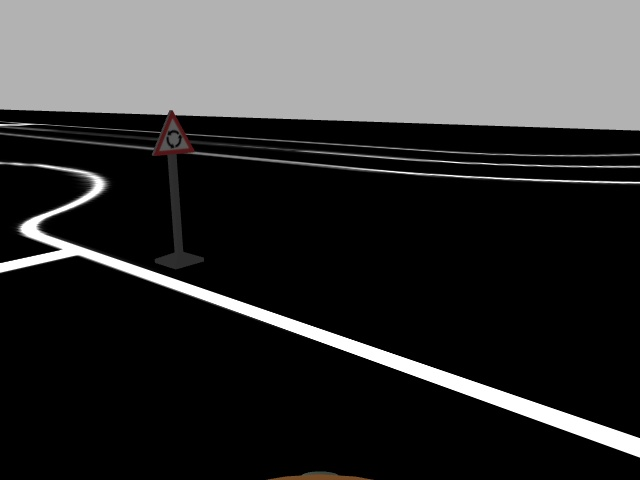roundabout: (150, 108, 195, 157)
